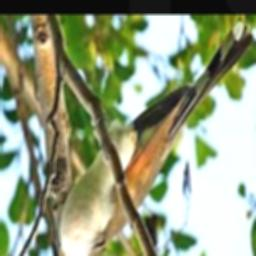Cuckoo: (45, 24, 254, 256)
